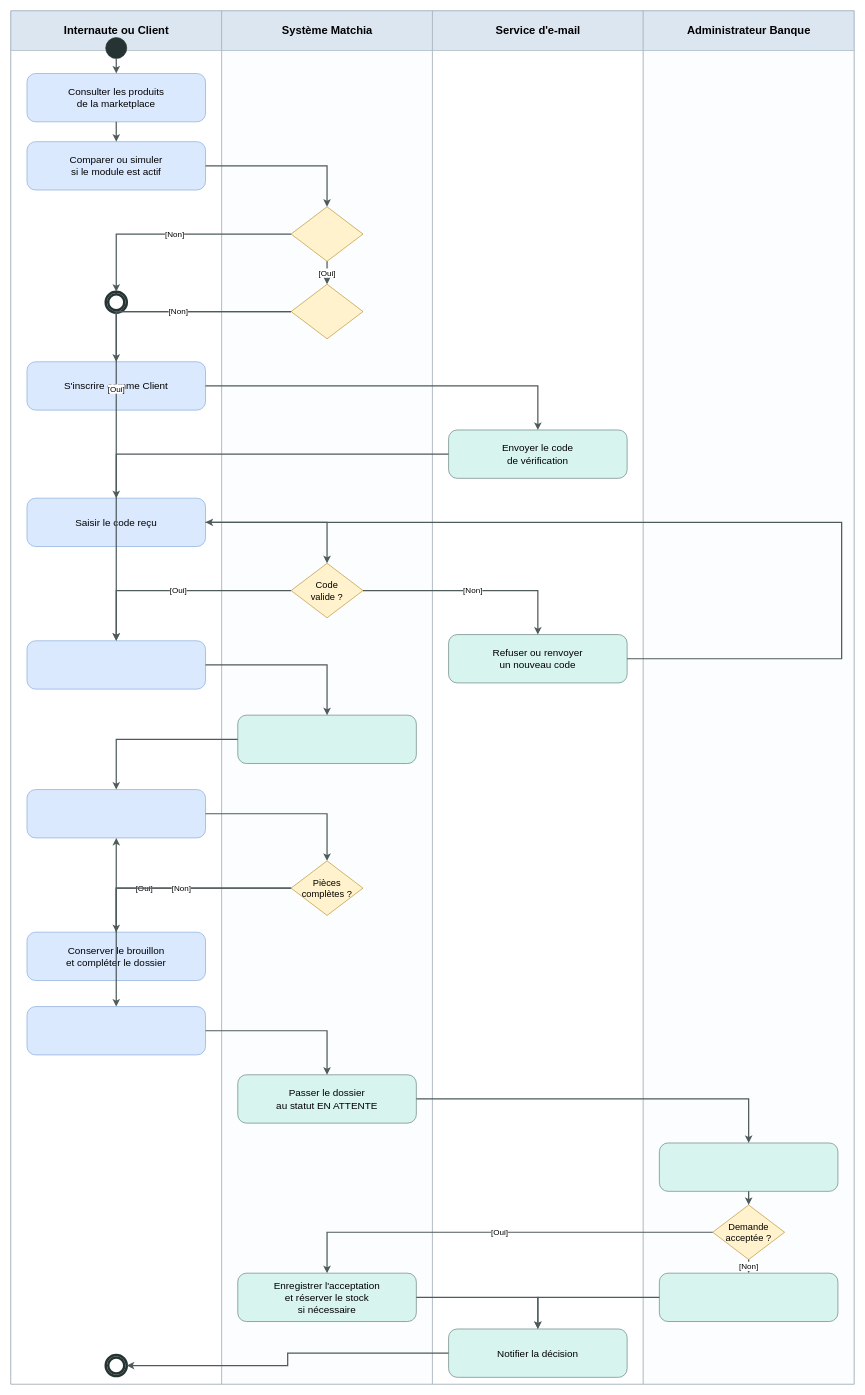
The diagram is 865 pixels wide and 1395 high, and some of its shapes have lost their labels. Here are the shapes that lost their labels. From the top down, the centre of each, then its label:
At pixel 326 233: "Poursuivre vers un financement ?".
At pixel 326 311: "Compte Client actif ?".
At pixel 116 664: "S'authentifier et sélectionner le produit ou la simulation".
At pixel 326 739: "Créer le dossier à l'état brouillon".
At pixel 116 813: "Renseigner les données et téléverser les justificatifs".
At pixel 116 1030: "Soumettre la demande".
At pixel 748 1166: "Examiner le dossier".
At pixel 748 1297: "Saisir le motif et enregistrer le rejet".
